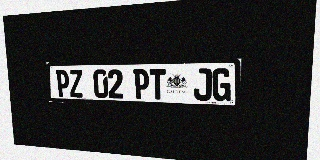0: (93, 69, 108, 98)
2: (108, 69, 123, 99)
G: (212, 68, 231, 101)
J: (194, 68, 212, 101)
P: (133, 69, 149, 99), (56, 70, 70, 97)
T: (149, 69, 166, 100)
Z: (69, 70, 83, 98)
